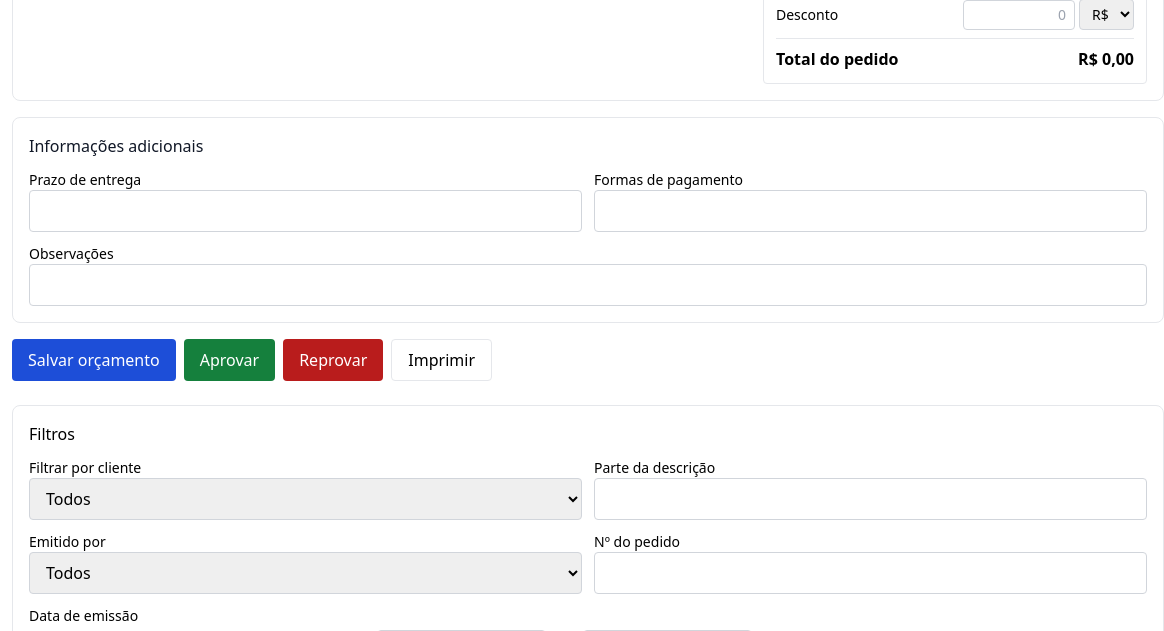
PedidosPage › Aprovar com formulário inválido não salva nem aprova
(page scrolled)
Click the button "Aprovar" at (229, 360), box [184,339,275,381]
(page scrolled)
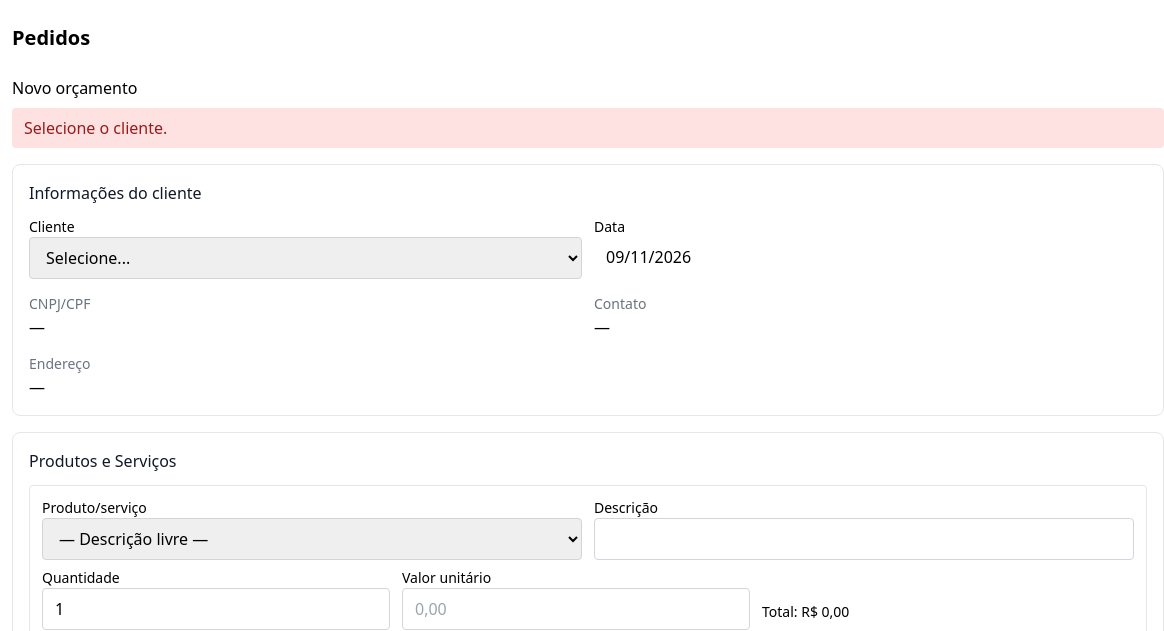
expect the message shows "cliente": met, box [24,117,167,139]
